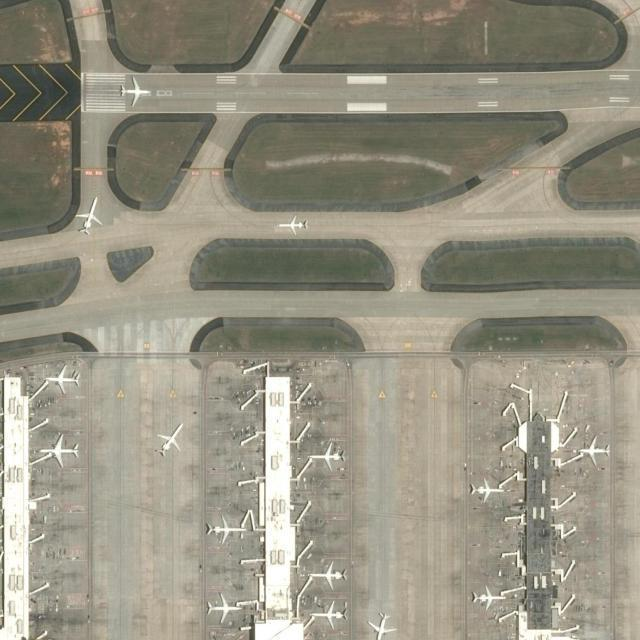Aircraft: (38, 433, 81, 467), (304, 442, 346, 472), (304, 559, 346, 589), (204, 591, 241, 625), (204, 517, 246, 545), (74, 196, 104, 232), (43, 366, 81, 394), (154, 421, 184, 456), (309, 601, 349, 627), (577, 436, 611, 466), (118, 77, 153, 106), (467, 478, 506, 502), (366, 610, 397, 640), (470, 585, 506, 609), (277, 214, 309, 235)
